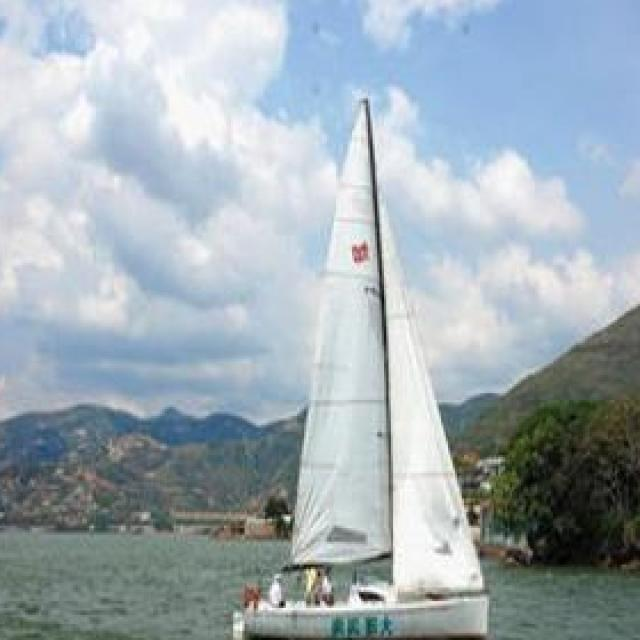sailboat: (224, 95, 485, 640)
